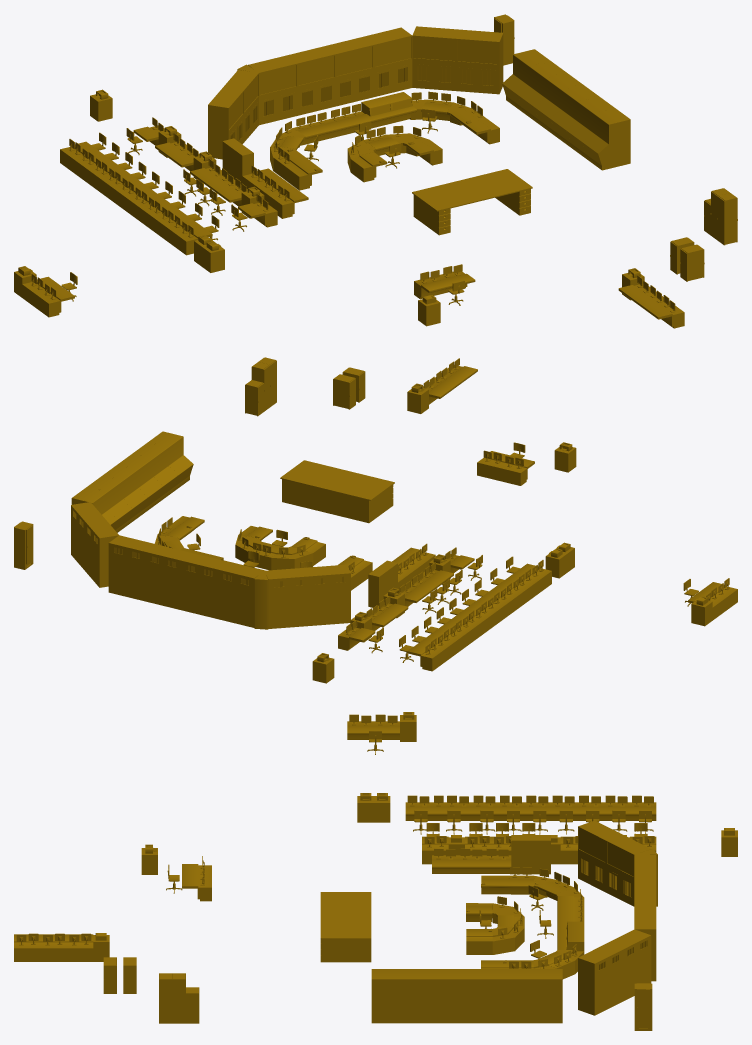
File: 主控设备2.fbx
3 renders of one model, top to bottom at view 1: azimuth 30°, elevation 25°; view 2: azimuth 150°, elevation 25°; view 3: azimuth 270°, elevation 25°, orthographic. The views are drawn at different scales.
Parts seen in each view (by area): view 1: ELCONN 1 of EQUIPMENT /table, ELCONN 1 of EQUIPMENT /XIMC708PP, ELCONN 1 of EQUIPMENT /XIMC707PP, ELCONN 1 of EQUIPMENT /XIMC703PP, ELCONN 1 of EQUIPMENT /XIMC705PP, ELCONN 1 of EQUIPMENT /XIMC706PP, ELCONN 1 of EQUIPMENT /XIMC704PP, ELCONN 1 of EQUIPMENT /XIMC746PP, ELCONN 1 of EQUIPMENT /XIMC701PP, ELCONN 1 of EQUIPMENT /XIMC741PP, ELCONN 1 of EQUIPMENT /XIMC702PP, ELCONN 1 of EQUIPMENT /XIMC742PP (+25 smaller); view 2: ELCONN 1 of EQUIPMENT /table, ELCONN 1 of EQUIPMENT /XIMC701PP, ELCONN 1 of EQUIPMENT /XIMC702PP, ELCONN 1 of EQUIPMENT /XIMC706PP, ELCONN 1 of EQUIPMENT /XIMC705PP, ELCONN 1 of EQUIPMENT /XIMC704PP, ELCONN 1 of EQUIPMENT /XIMC703PP, ELCONN 1 of EQUIPMENT /XIMC707PP, ELCONN 1 of EQUIPMENT /XIMC708PP, ELCONN 1 of EQUIPMENT /XIMC744PP, ELCONN 1 of EQUIPMENT /XIMC743PP, ELCONN 1 of EQUIPMENT /XIMC745PP (+13 smaller); view 3: ELCONN 1 of EQUIPMENT /table, ELCONN 1 of EQUIPMENT /XIMC708PP, ELCONN 1 of EQUIPMENT /XIMC702PP, ELCONN 1 of EQUIPMENT /XIMC701PP, ELCONN 1 of EQUIPMENT /XIMC741PP, ELCONN 1 of EQUIPMENT /XIMC743PP, ELCONN 1 of EQUIPMENT /XIMC707PP, ELCONN 1 of EQUIPMENT /XIMC746PP, ELCONN 1 of EQUIPMENT /XIMC742PP, ELCONN 1 of EQUIPMENT /XIMC745PP, ELCONN 1 of EQUIPMENT /XIMC744PP, BOX 1 of EQUIPMENT /XFAD102PP (+11 smaller).
Boxes of the visible parts, left/top/right/bottom form: ELCONN 1 of EQUIPMENT /table: left=412, top=169, right=532, bottom=235; ELCONN 1 of EQUIPMENT /XIMC708PP: left=456, top=29, right=503, bottom=94; ELCONN 1 of EQUIPMENT /XIMC707PP: left=412, top=26, right=459, bottom=90; ELCONN 1 of EQUIPMENT /XIMC703PP: left=248, top=55, right=297, bottom=125; ELCONN 1 of EQUIPMENT /XIMC705PP: left=325, top=37, right=373, bottom=106; ELCONN 1 of EQUIPMENT /XIMC706PP: left=363, top=27, right=412, bottom=96; ELCONN 1 of EQUIPMENT /XIMC704PP: left=286, top=46, right=335, bottom=115; ELCONN 1 of EQUIPMENT /XIMC746PP: left=582, top=108, right=630, bottom=170; ELCONN 1 of EQUIPMENT /XIMC701PP: left=208, top=87, right=243, bottom=159; ELCONN 1 of EQUIPMENT /XIMC741PP: left=502, top=49, right=550, bottom=111; ELCONN 1 of EQUIPMENT /XIMC702PP: left=223, top=70, right=258, bottom=142; ELCONN 1 of EQUIPMENT /XIMC742PP: left=518, top=61, right=566, bottom=123; ELCONN 1 of EQUIPMENT /table: left=280, top=460, right=394, bottom=523; ELCONN 1 of EQUIPMENT /XIMC701PP: left=306, top=564, right=350, bottom=625; ELCONN 1 of EQUIPMENT /XIMC702PP: left=265, top=567, right=309, bottom=628; ELCONN 1 of EQUIPMENT /XIMC706PP: left=108, top=535, right=155, bottom=601; ELCONN 1 of EQUIPMENT /XIMC705PP: left=145, top=544, right=191, bottom=610; ELCONN 1 of EQUIPMENT /XIMC704PP: left=181, top=553, right=227, bottom=618; ELCONN 1 of EQUIPMENT /XIMC703PP: left=218, top=562, right=263, bottom=627; ELCONN 1 of EQUIPMENT /XIMC707PP: left=85, top=518, right=118, bottom=587; ELCONN 1 of EQUIPMENT /XIMC708PP: left=71, top=502, right=104, bottom=570; ELCONN 1 of EQUIPMENT /XIMC744PP: left=118, top=453, right=163, bottom=512; ELCONN 1 of EQUIPMENT /XIMC743PP: left=103, top=464, right=148, bottom=523; ELCONN 1 of EQUIPMENT /XIMC745PP: left=133, top=442, right=178, bottom=501; ELCONN 1 of EQUIPMENT /table: left=320, top=892, right=371, bottom=962; ELCONN 1 of EQUIPMENT /XIMC708PP: left=578, top=943, right=622, bottom=1015; ELCONN 1 of EQUIPMENT /XIMC702PP: left=606, top=835, right=650, bottom=906; ELCONN 1 of EQUIPMENT /XIMC701PP: left=578, top=820, right=622, bottom=892; ELCONN 1 of EQUIPMENT /XIMC741PP: left=530, top=969, right=562, bottom=1023; ELCONN 1 of EQUIPMENT /XIMC743PP: left=466, top=969, right=498, bottom=1023; ELCONN 1 of EQUIPMENT /XIMC707PP: left=606, top=929, right=651, bottom=1001; ELCONN 1 of EQUIPMENT /XIMC746PP: left=371, top=969, right=403, bottom=1023; ELCONN 1 of EQUIPMENT /XIMC742PP: left=498, top=969, right=530, bottom=1023; ELCONN 1 of EQUIPMENT /XIMC745PP: left=403, top=969, right=434, bottom=1023; ELCONN 1 of EQUIPMENT /XIMC744PP: left=435, top=969, right=466, bottom=1023; BOX 1 of EQUIPMENT /XFAD102PP: left=511, top=835, right=550, bottom=874.
Bounding box in the file's own units: 31.9 × 32.9 × 2.63.
